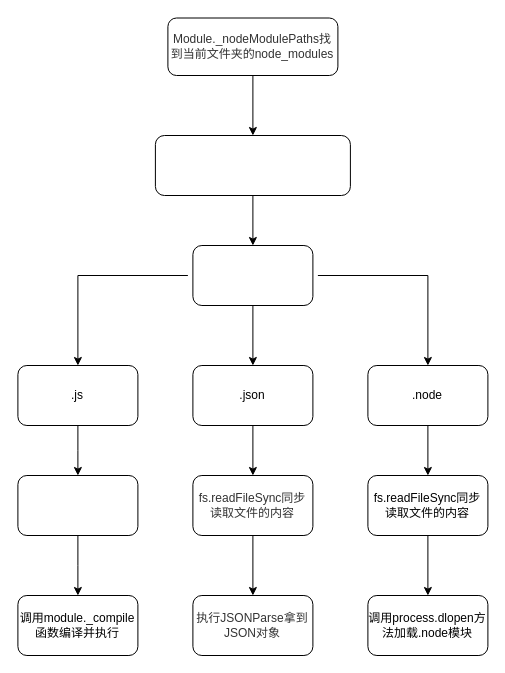
Image size: 505x673. Some labels were removed from this diagram. The shapes that lost their labels are listed below. From the top down, each one's box as (x1, y1, x2, y2) in pixels, then its label:
(154, 134, 350, 196): 查找文件最长的扩展名findLongestRegisteredExtension
(192, 244, 313, 306): 不同文件后缀名执行不同的解析函数（如js、json、node）
(17, 474, 138, 536): fs.readFileSync同步读取源码内容
